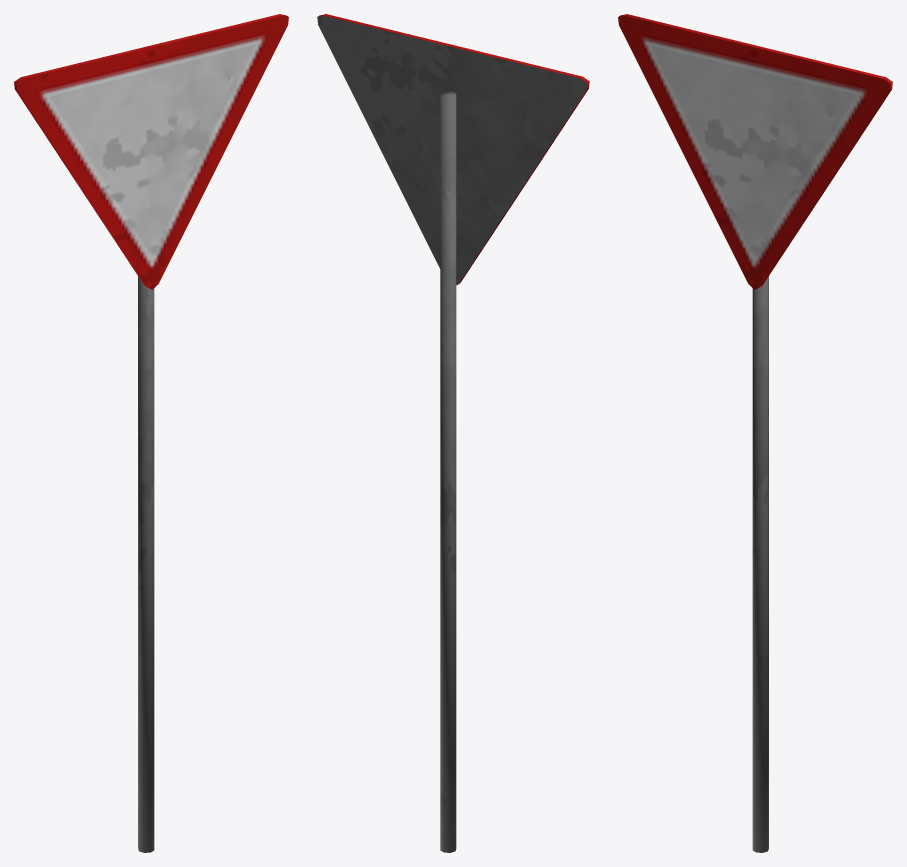
Rendered from Sign_06.glb.
3 renders of one model, left to right at view 1: azimuth 30°, elevation 25°; view 2: azimuth 150°, elevation 25°; view 3: azimuth 330°, elevation 25°, orthographic.
Visible parts, largest first — view 1: Sign_06.001; view 2: Sign_06.001; view 3: Sign_06.001.
Boxes of the visible parts, x1,y1,x2,y2 form: Sign_06.001: [14, 14, 288, 852]; Sign_06.001: [317, 14, 589, 852]; Sign_06.001: [618, 14, 892, 852].
Size of the model in its own units: 0.7487 by 2.12 by 0.0505.
Materials: 1 (1 with a texture image).
